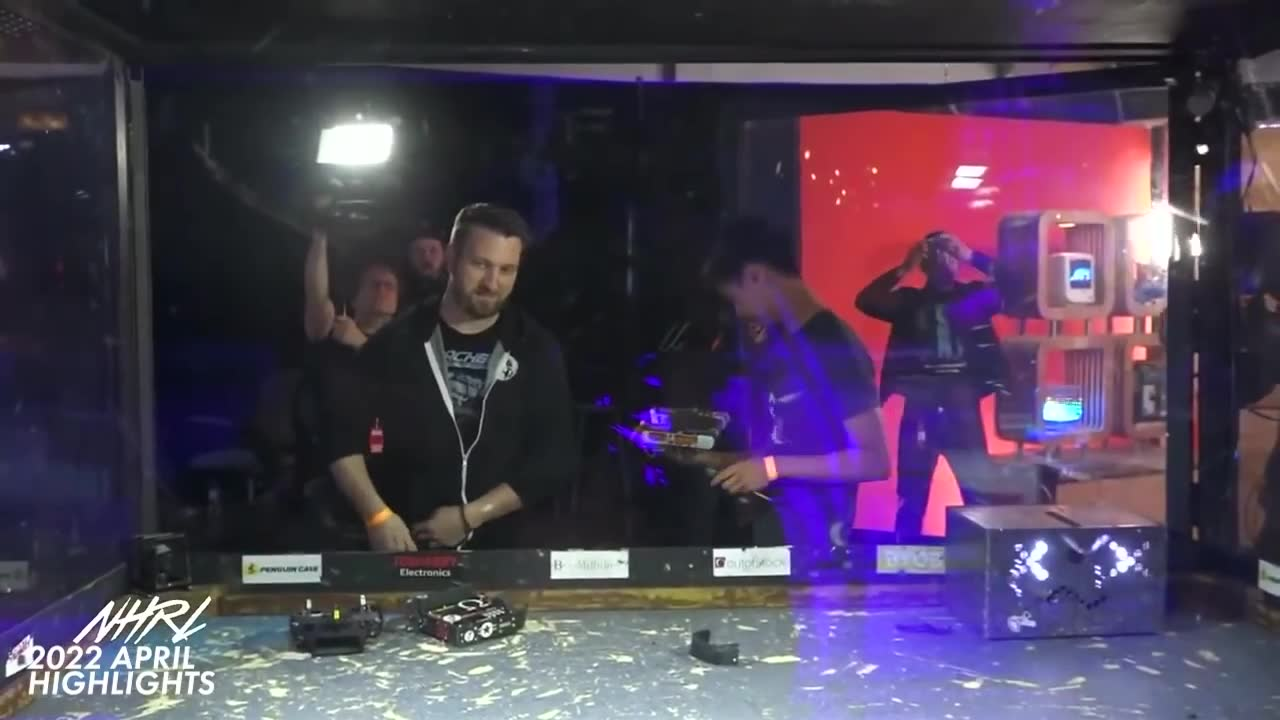combatbot: (420, 593, 521, 645), (633, 399, 732, 450)
debris: (687, 625, 742, 667)
housebot: (943, 506, 1169, 639)
